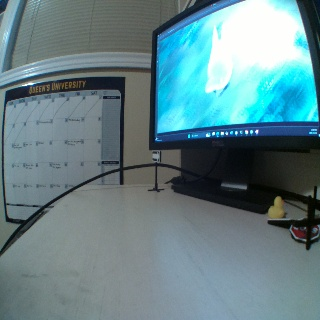sign_oneway_right: (151, 149, 162, 163)
